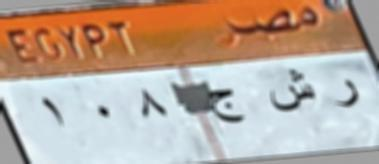0: (86, 96, 115, 125)
1: (39, 89, 69, 131)
8: (132, 82, 172, 125)
jeem: (206, 84, 248, 133)
raa: (330, 73, 364, 113)
sheen: (260, 64, 318, 116)
